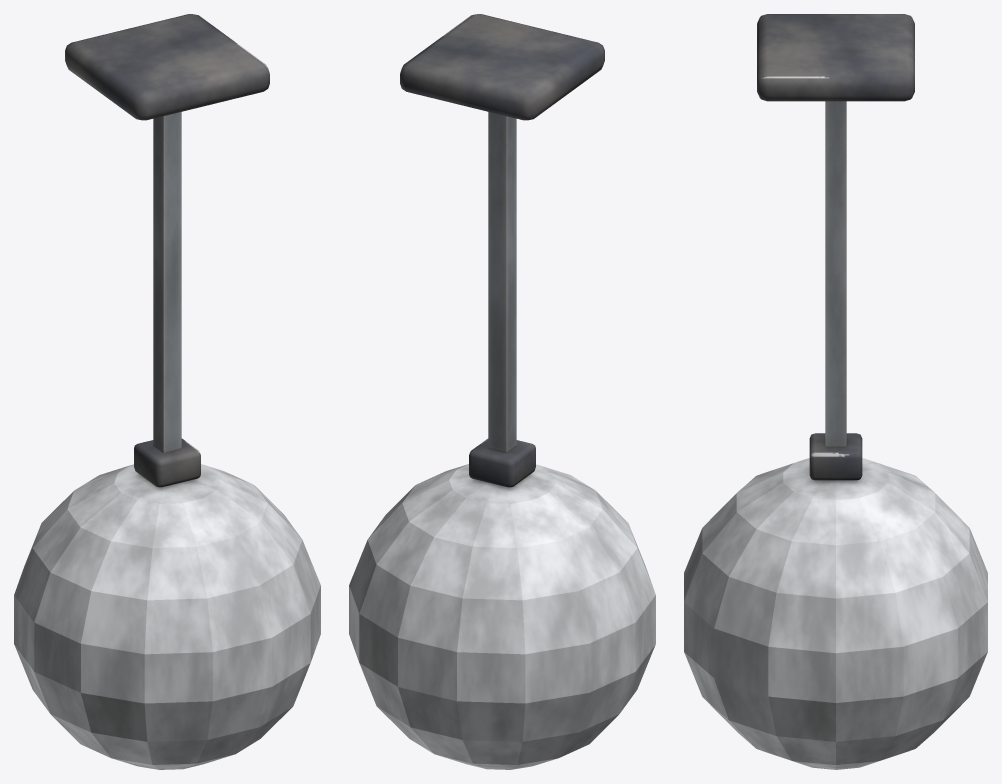
Rendered from disco_ball.fbx.
The picture shows the model from 3 angles, left to right: view 1: azimuth 30°, elevation 25°; view 2: azimuth 150°, elevation 25°; view 3: azimuth 270°, elevation 25°; orthographic projection.
Visible parts, largest first — view 1: Spin, Body; view 2: Spin, Body; view 3: Spin, Body.
Part boxes in pixels (x1=…): Spin: x1=14, y1=464, x2=320, y2=769; Body: x1=65, y1=14, x2=269, y2=487; Spin: x1=349, y1=464, x2=655, y2=769; Body: x1=400, y1=14, x2=604, y2=487; Spin: x1=684, y1=458, x2=987, y2=769; Body: x1=757, y1=14, x2=914, y2=480.
Size of the model in its own units: 1.18 by 2.98 by 1.15.
1 material, 1 textured.
